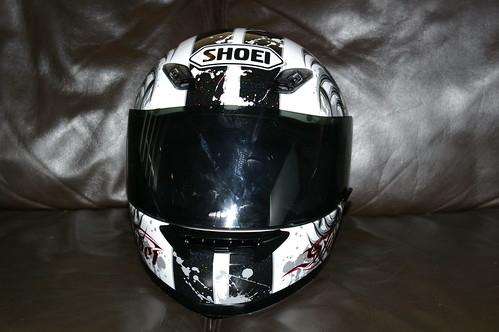helmet: (117, 23, 366, 319)
